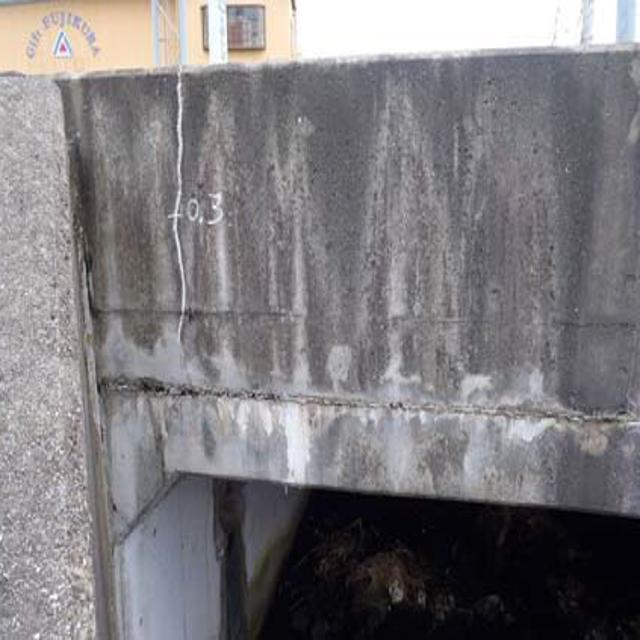freelime: (478, 353, 602, 448), (218, 382, 323, 482)
